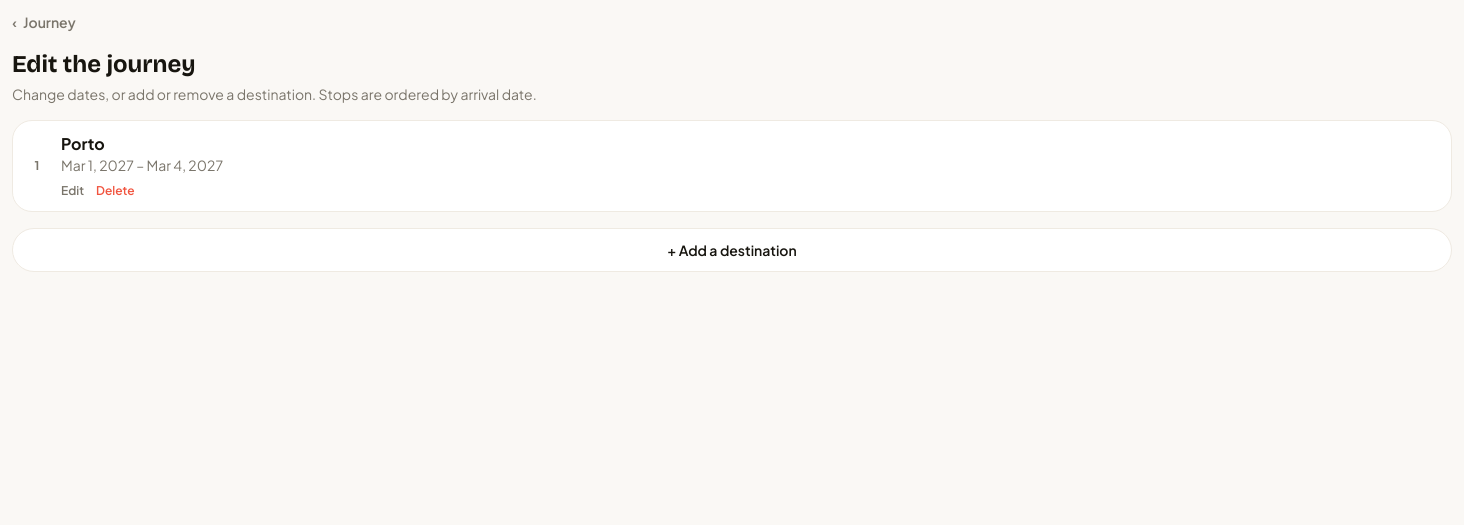
Scenario: the journey editor › labels both date fields, so the two are told apart
Click the button "+ Add a destination".
click(732, 250)  # box [12, 228, 1452, 272]
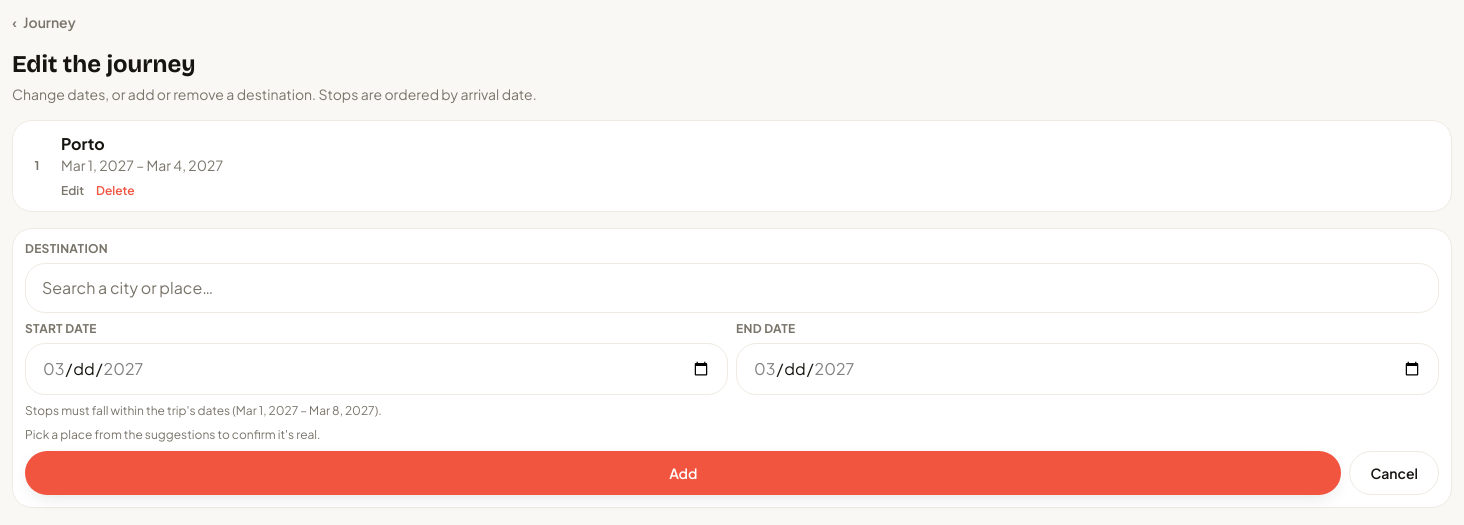
Check: the text "Start date" is shown, box [25, 321, 97, 336]
Check: the text "End date" is shown, box [736, 321, 796, 336]
